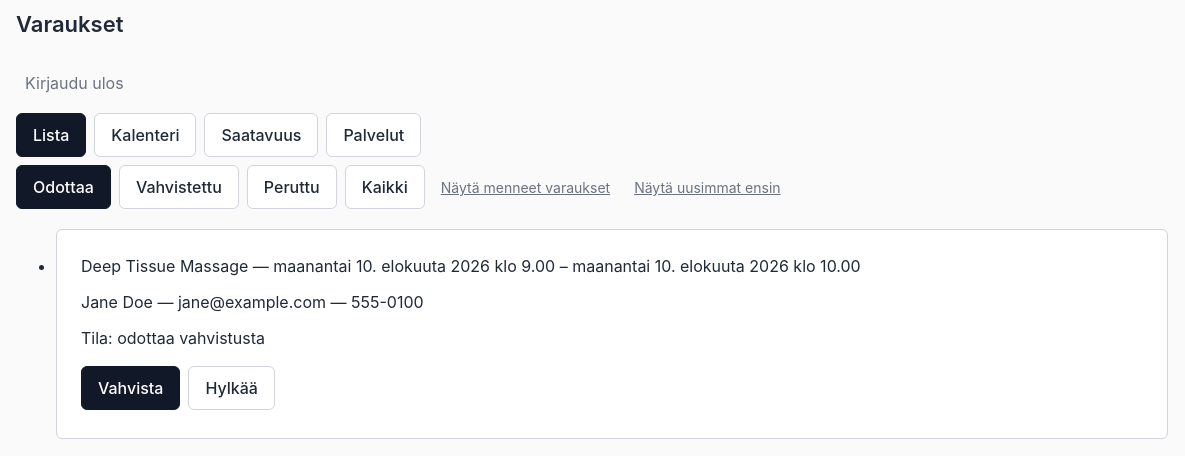
Test case: AdminDashboard › confirms a pending booking in place without refetching the list
Expected: the list item with test id "booking-booking-1" is shown, [56,229,1168,439]
Click the button "Vahvista" at (131, 388), box [81,366,180,410]
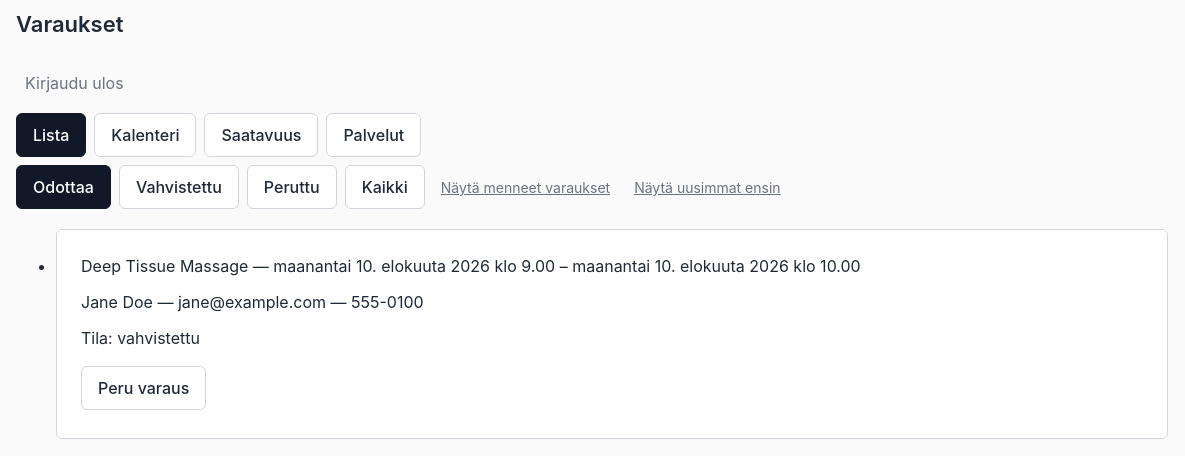
Result: the list item with test id "booking-booking-1" shows "Tila: vahvistettu" at [56,229,1168,439]
